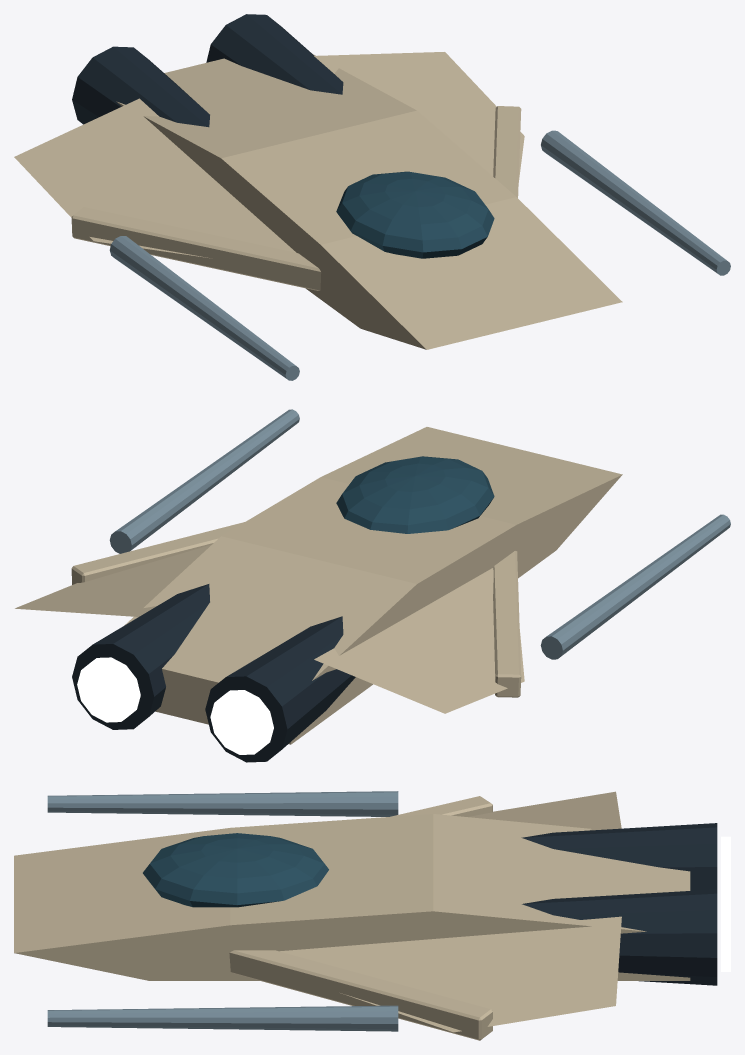
The model's file is space-interceptor.lod0.glb.
The picture shows the model from 3 angles, top to bottom: view 1: azimuth 30°, elevation 25°; view 2: azimuth 150°, elevation 25°; view 3: azimuth 270°, elevation 25°; orthographic projection.
Visible parts, largest first — view 1: space-interceptor__body; view 2: space-interceptor__body; view 3: space-interceptor__body.
Part boxes in pixels (bbox=[...]): space-interceptor__body: bbox=[14, 14, 730, 380]; space-interceptor__body: bbox=[15, 409, 730, 762]; space-interceptor__body: bbox=[14, 791, 730, 1040].
Bounding box in the file's own units: 3.47 × 0.715 × 4.66.
